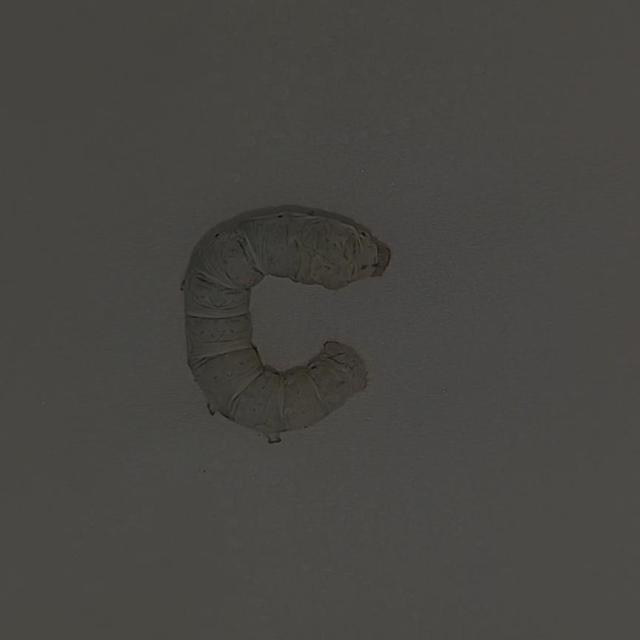Healthy: (166, 165, 419, 476)
